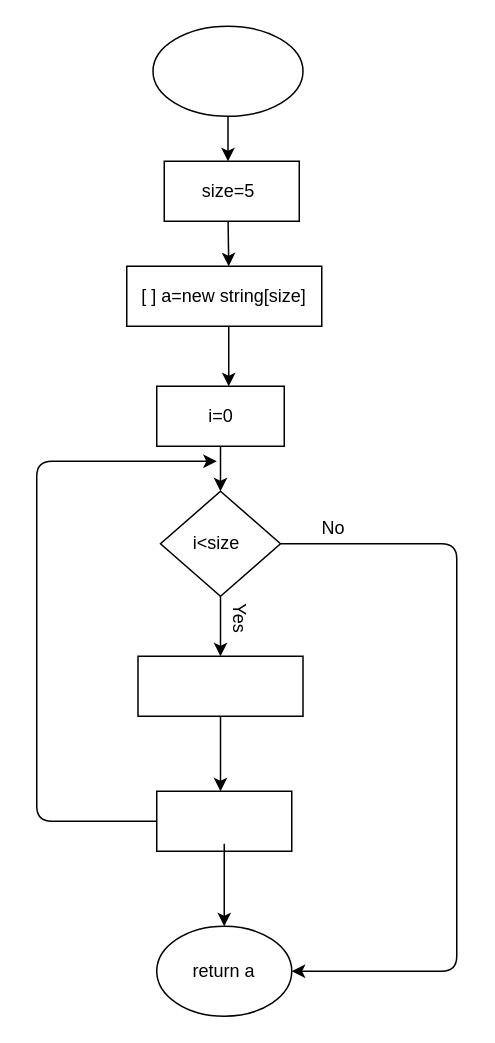
Image size: 495x1043. Some labels were removed from this diagram. The centre of each missing label's shape, as x and y in pixels:
a[i]=input "Text": [219,685]
ArrayFirst: [227,70]
i=i+1: [223,820]
